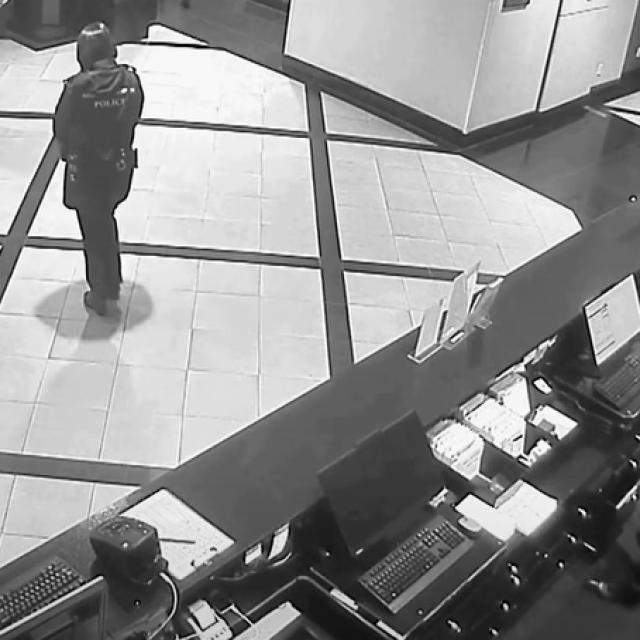Invader: (51, 20, 144, 316)
